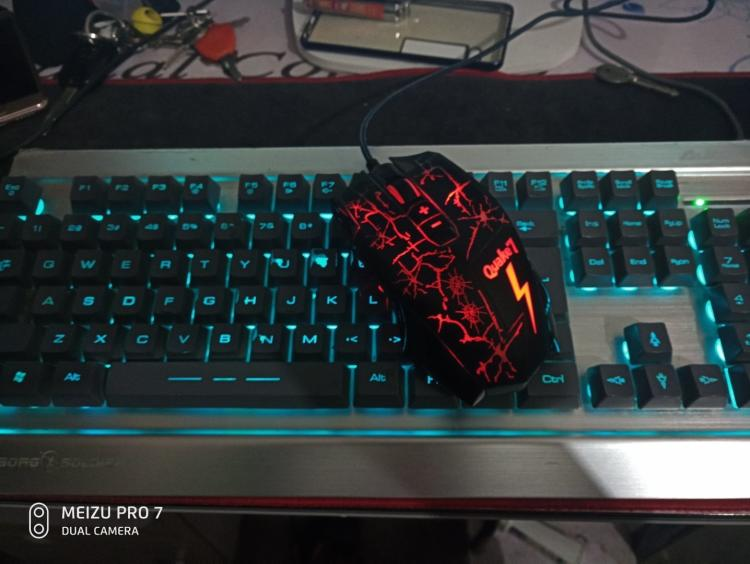keyboard: (6, 147, 743, 504)
mouse: (334, 152, 553, 392)
